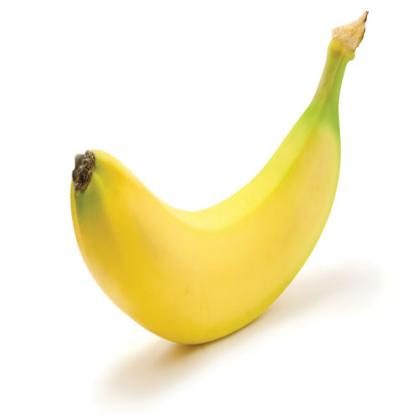banana: (58, 98, 354, 366)
